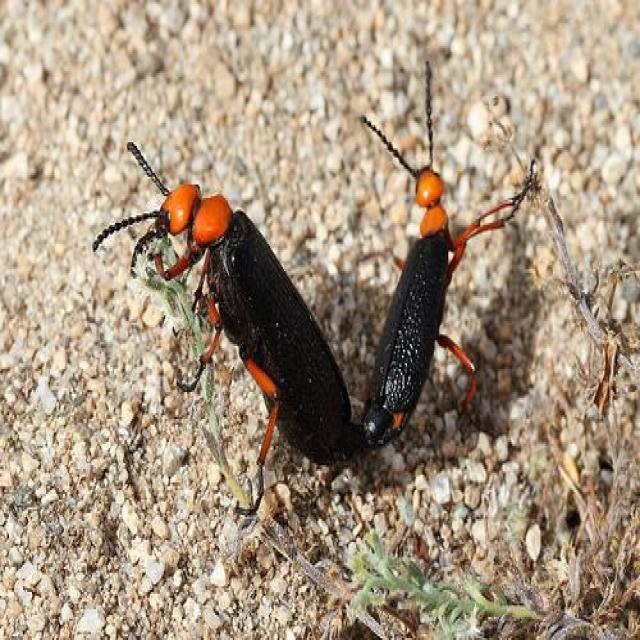BlisterBeetle-Adult-: (109, 133, 362, 495), (353, 73, 515, 459)
